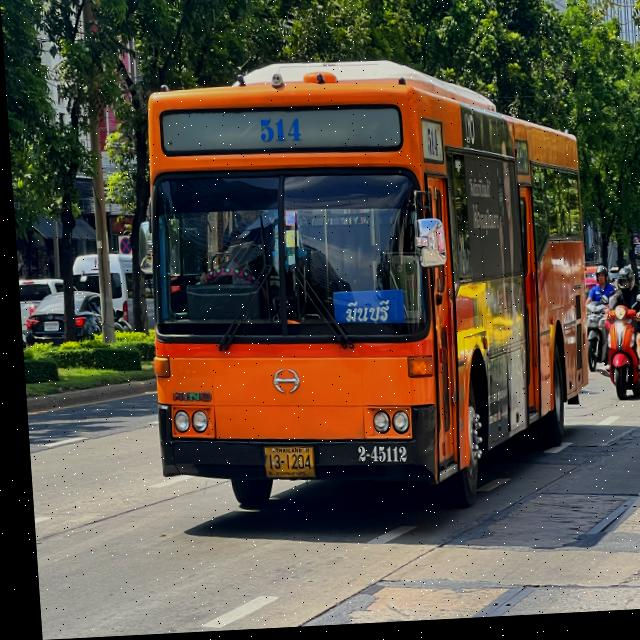BMTA-bus: (134, 66, 583, 515)
Bus Line Number: (248, 113, 309, 154)
Bus Side Number: (347, 444, 406, 471)
Destination Sign: (327, 294, 402, 334)
